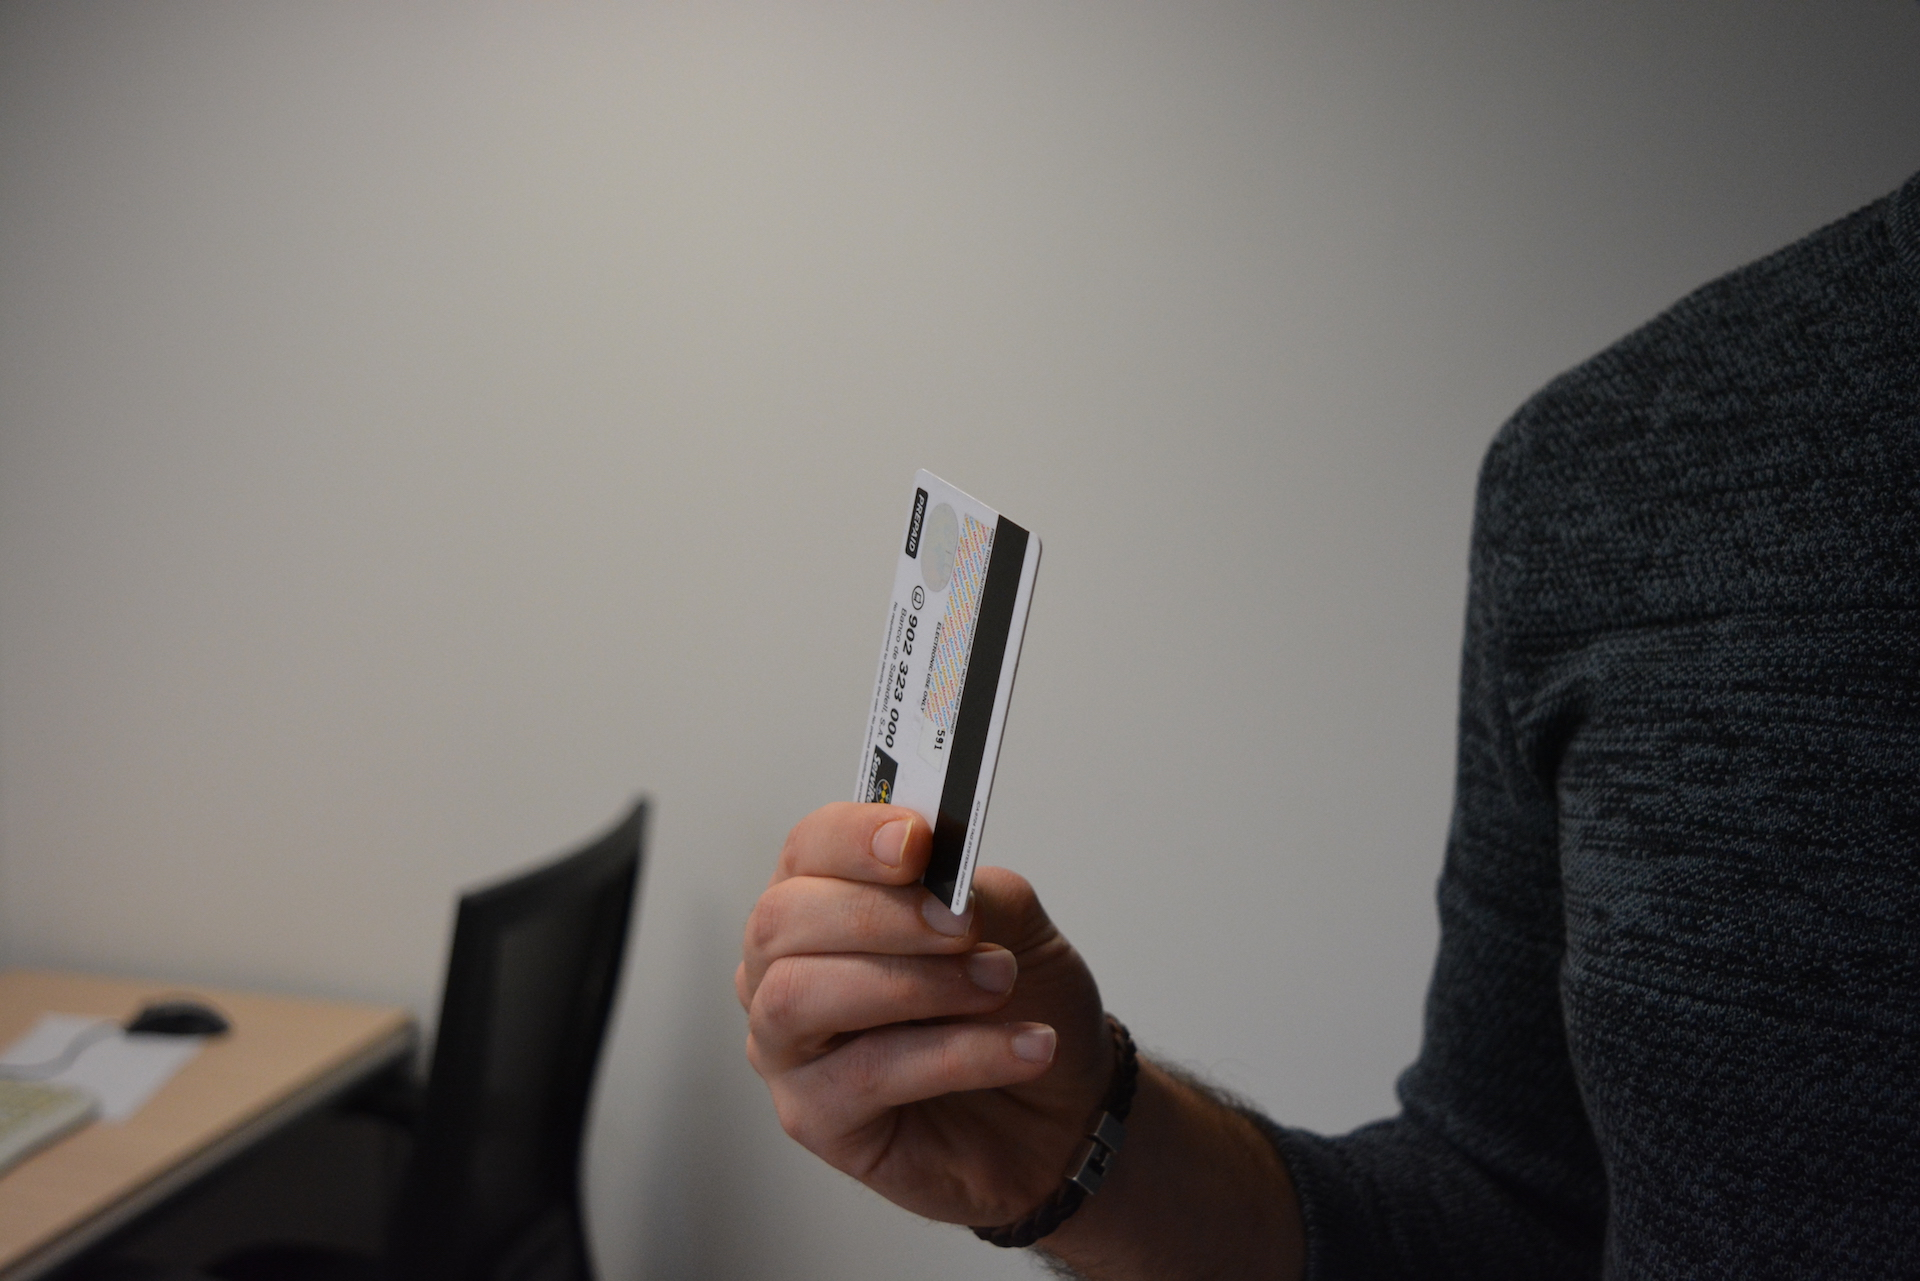tarjeta: (852, 466, 1046, 919)
